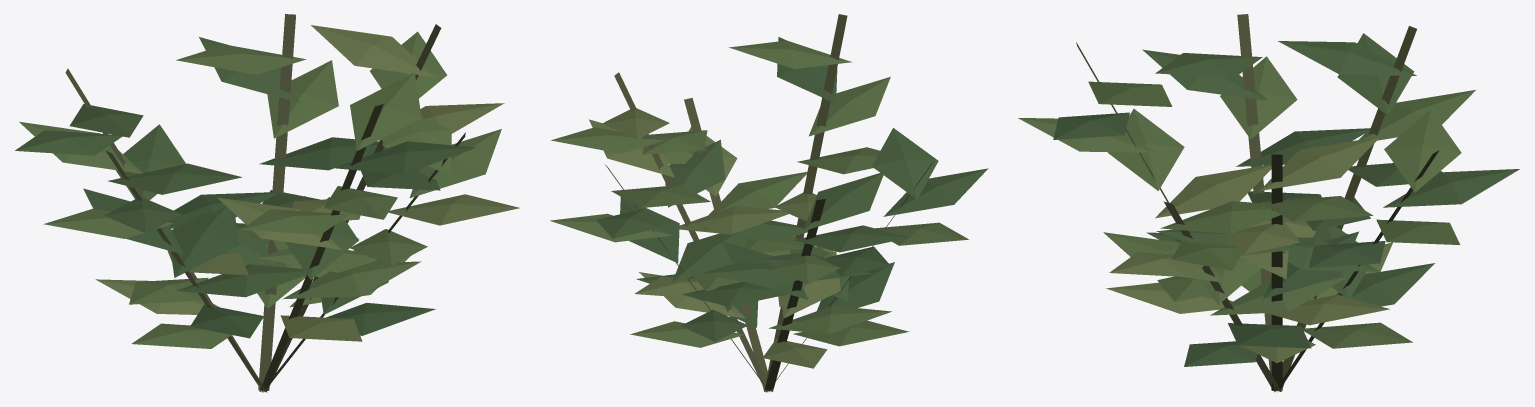
The model's file is ground_shrub_a.glb.
3 views of the same model, side by side, from view 1: azimuth 30°, elevation 25°; view 2: azimuth 150°, elevation 25°; view 3: azimuth 270°, elevation 25° (orthographic). The views are drawn at different scales.
Visible parts, largest first — view 1: ground_shrub_a; view 2: ground_shrub_a; view 3: ground_shrub_a.
Part boxes in pixels (x1,y1,x2,y2): ground_shrub_a: (15,14,519,392); ground_shrub_a: (550,14,988,392); ground_shrub_a: (1018,14,1519,392).
Size of the model in its own units: 0.4631 by 0.3495 by 0.4503.
